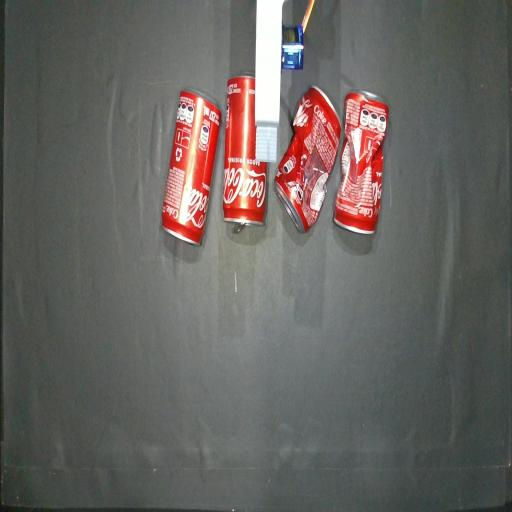lata: (162, 90, 222, 245), (222, 74, 267, 233)
lata_defectuoso: (274, 86, 341, 232), (334, 91, 388, 234)
